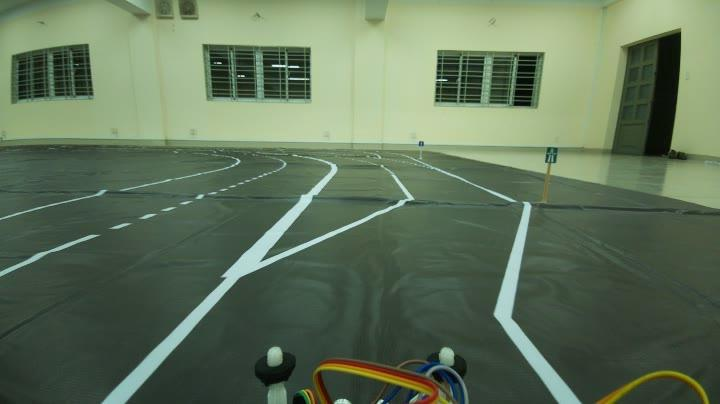highway_entry: (541, 144, 564, 171)
